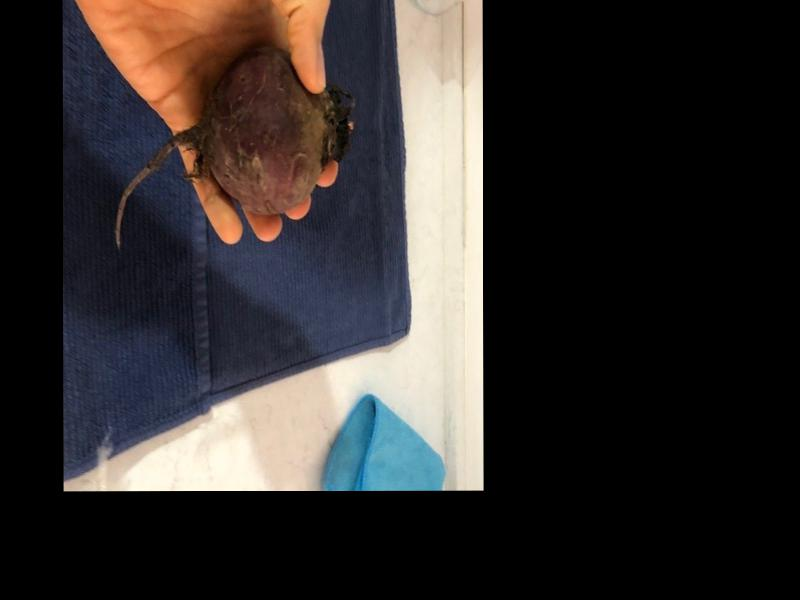Beet: (114, 44, 354, 251)
